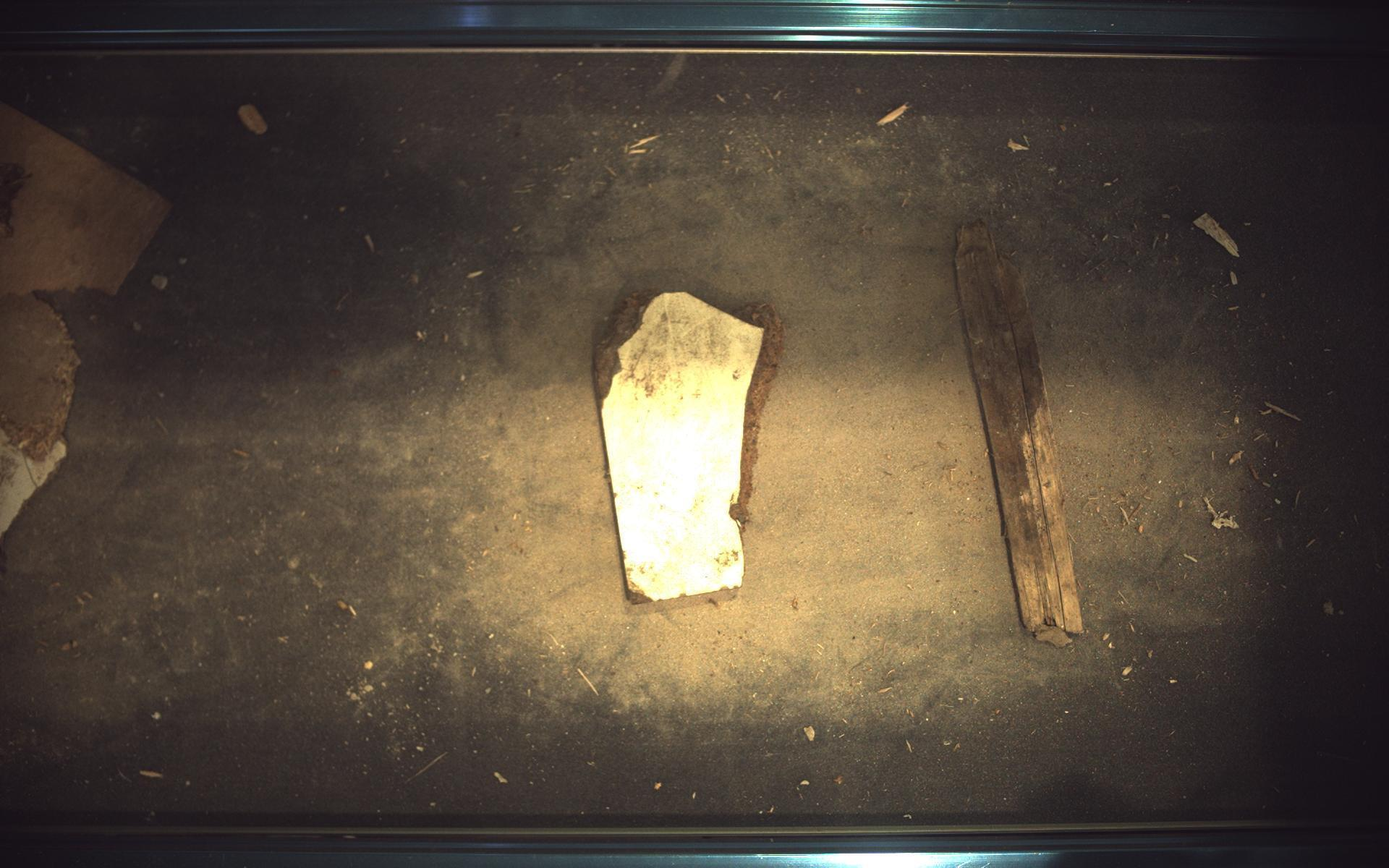wood: (594, 292, 784, 604), (959, 220, 1086, 647), (1, 292, 78, 536)
